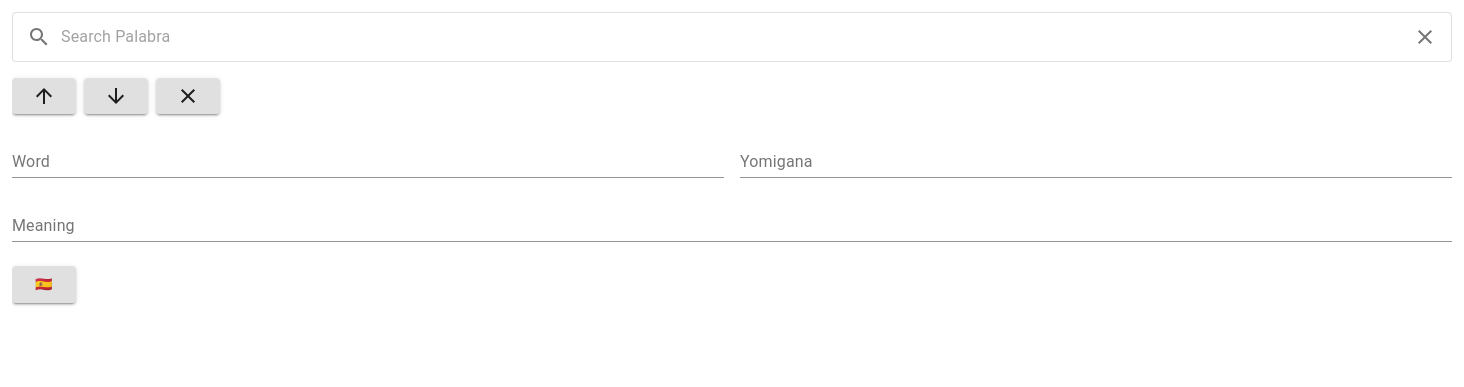
Test case: move up then clear
Type "aaa" into the field named "word". click: [368, 162]
box: [12, 146, 724, 178]
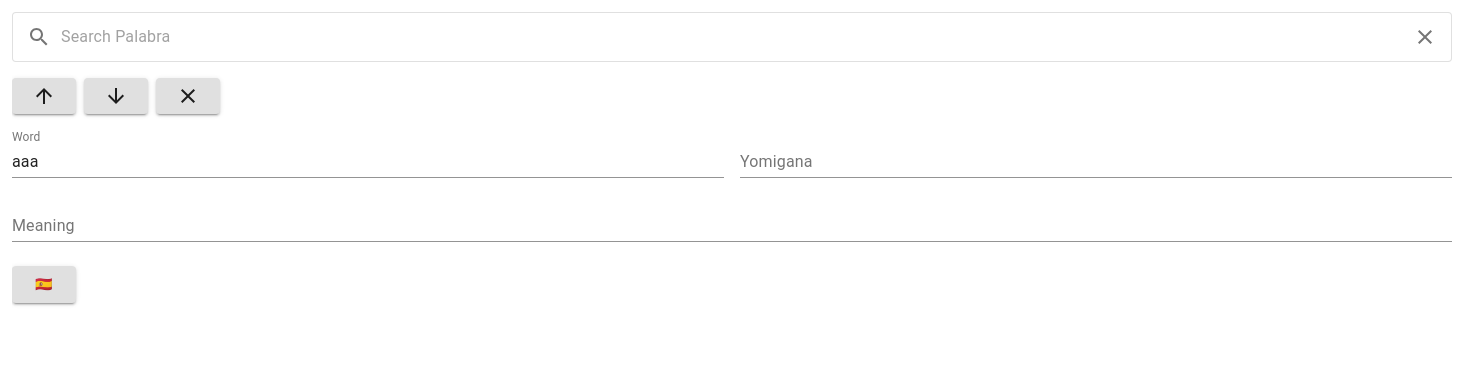
Click the button named "to search". click: [44, 96]
box: [12, 78, 76, 114]
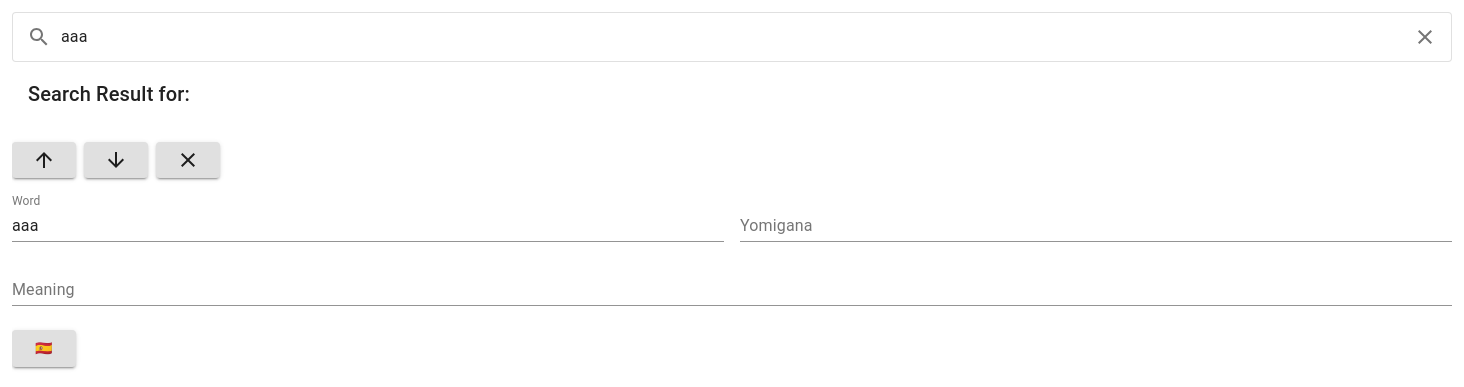
expect the field with placeholder "Search Palabra" holds "aaa": met, box [61, 21, 1403, 53]
Click the button named "clear all". click: [188, 160]
box: [156, 142, 220, 178]
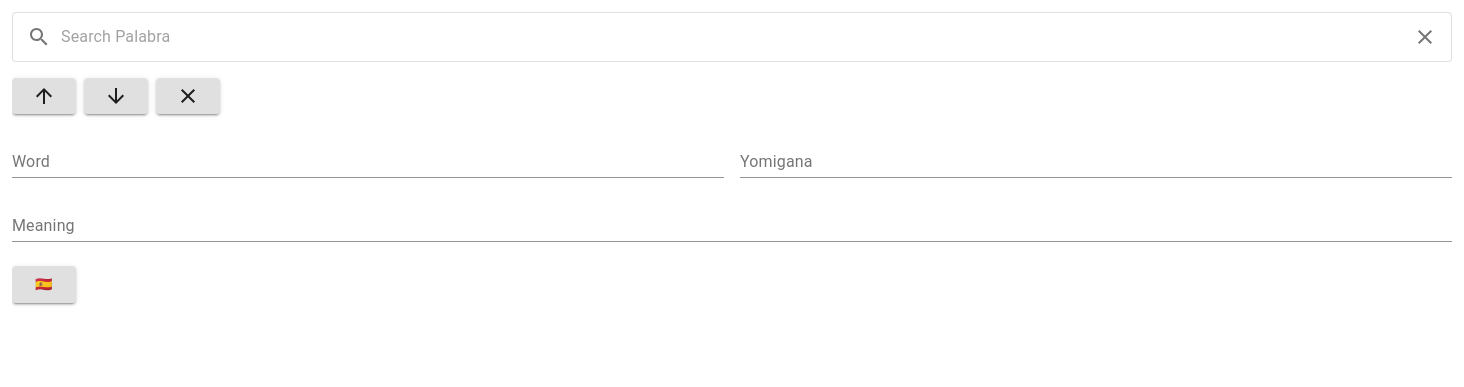
expect the field named "word" is empty: met, box [12, 146, 724, 178]
expect the field with placeholder "Search Palabra" is empty: met, box [61, 21, 1403, 53]
